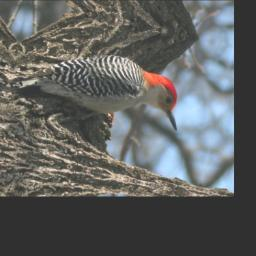Woodpecker: (7, 33, 193, 144)
